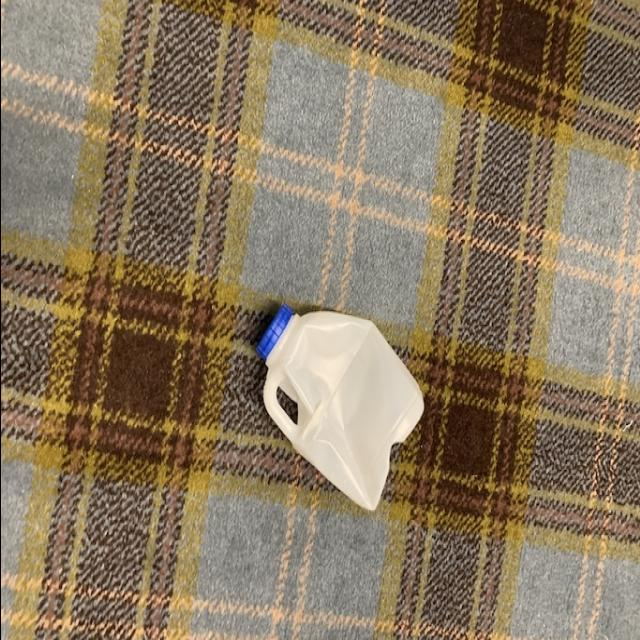HDPEM: (252, 286, 426, 516)
